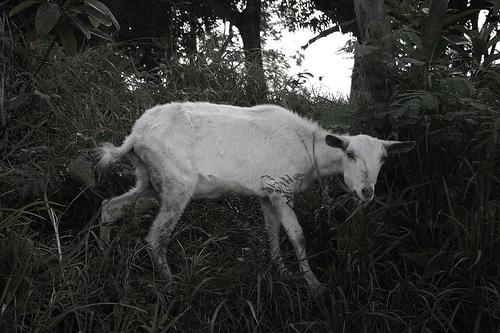goat: (95, 100, 416, 298)
